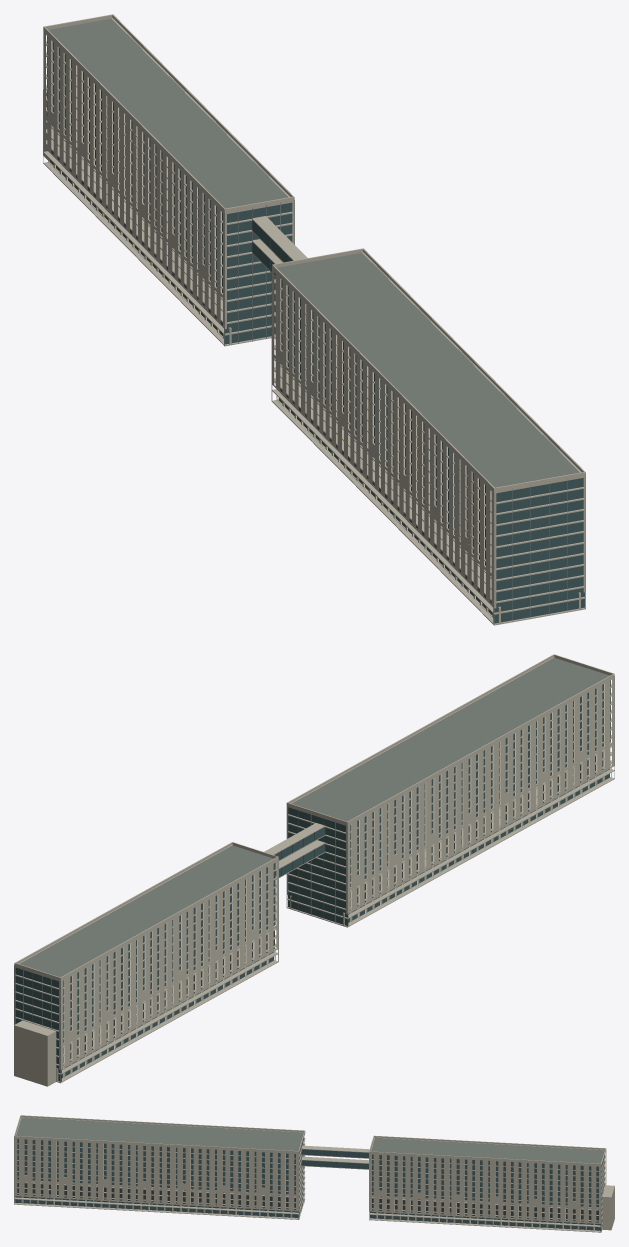
File: bancolombia-medellin-far.glb
The picture shows the model from 3 angles, top to bottom: view 1: azimuth 30°, elevation 25°; view 2: azimuth 150°, elevation 25°; view 3: azimuth 270°, elevation 25°; orthographic projection. The views are drawn at different scales.
Parts seen in each view (by area): view 1: bancolombia-medellin-0-stone, bancolombia-medellin-0-roof, bancolombia-medellin-0-glass, bancolombia-medellin-0-trim; view 2: bancolombia-medellin-0-stone, bancolombia-medellin-0-roof, bancolombia-medellin-0-glass, bancolombia-medellin-0-shadow, bancolombia-medellin-0-trim; view 3: bancolombia-medellin-0-stone, bancolombia-medellin-0-glass, bancolombia-medellin-0-roof, bancolombia-medellin-0-shadow, bancolombia-medellin-0-trim.
Part boxes in pixels (bbox=[...]): bancolombia-medellin-0-stone: bbox=[43, 14, 585, 625]; bancolombia-medellin-0-roof: bbox=[48, 18, 579, 487]; bancolombia-medellin-0-glass: bbox=[47, 36, 584, 623]; bancolombia-medellin-0-trim: bbox=[43, 29, 585, 625]; bancolombia-medellin-0-stone: bbox=[14, 654, 614, 1086]; bancolombia-medellin-0-roof: bbox=[19, 658, 609, 977]; bancolombia-medellin-0-glass: bbox=[15, 680, 610, 1081]; bancolombia-medellin-0-shadow: bbox=[63, 752, 603, 1065]; bancolombia-medellin-0-trim: bbox=[14, 676, 614, 1083]; bancolombia-medellin-0-stone: bbox=[14, 1115, 614, 1232]; bancolombia-medellin-0-glass: bbox=[15, 1138, 605, 1231]; bancolombia-medellin-0-roof: bbox=[16, 1117, 604, 1163]; bancolombia-medellin-0-shadow: bbox=[17, 1181, 598, 1222]; bancolombia-medellin-0-trim: bbox=[14, 1136, 603, 1232].
Bounding box in the file's own units: 76.26 × 49.8 × 396.
